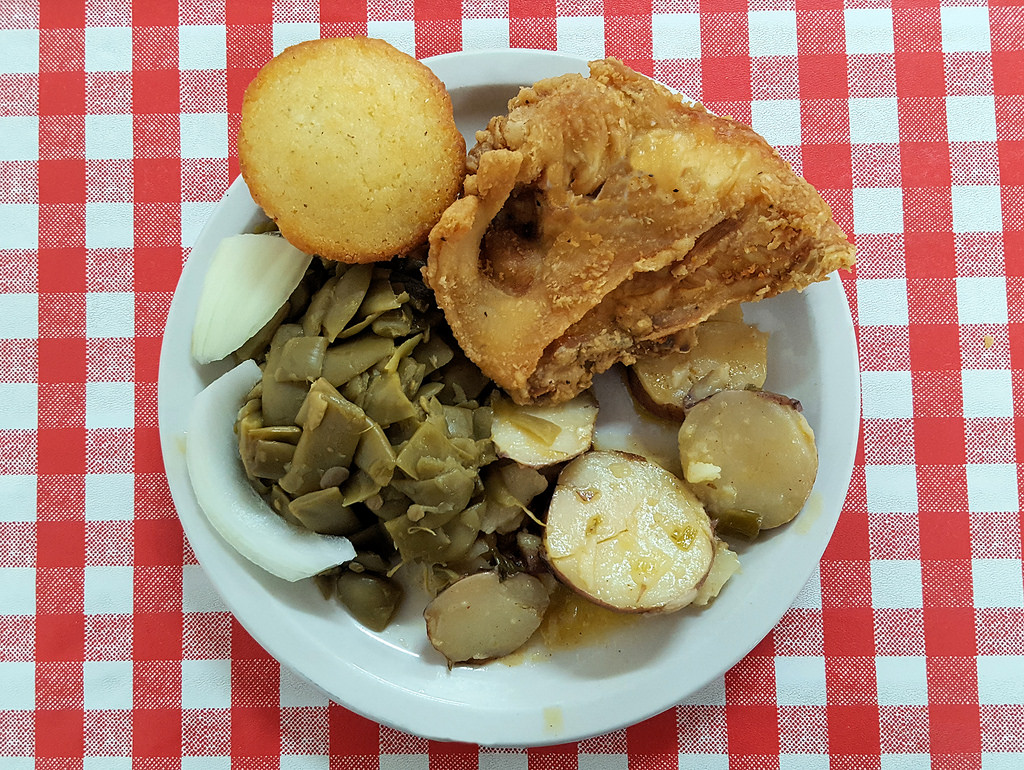boiled potatoes: (545, 459, 724, 598)
